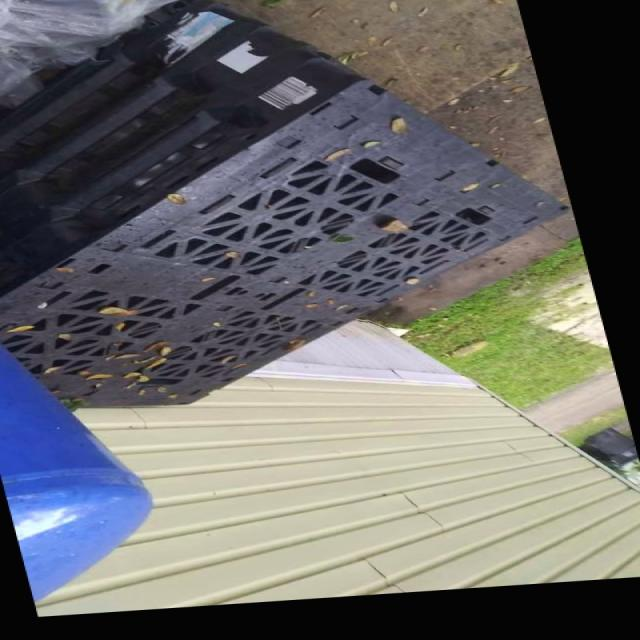igps: (0, 0, 569, 406)
